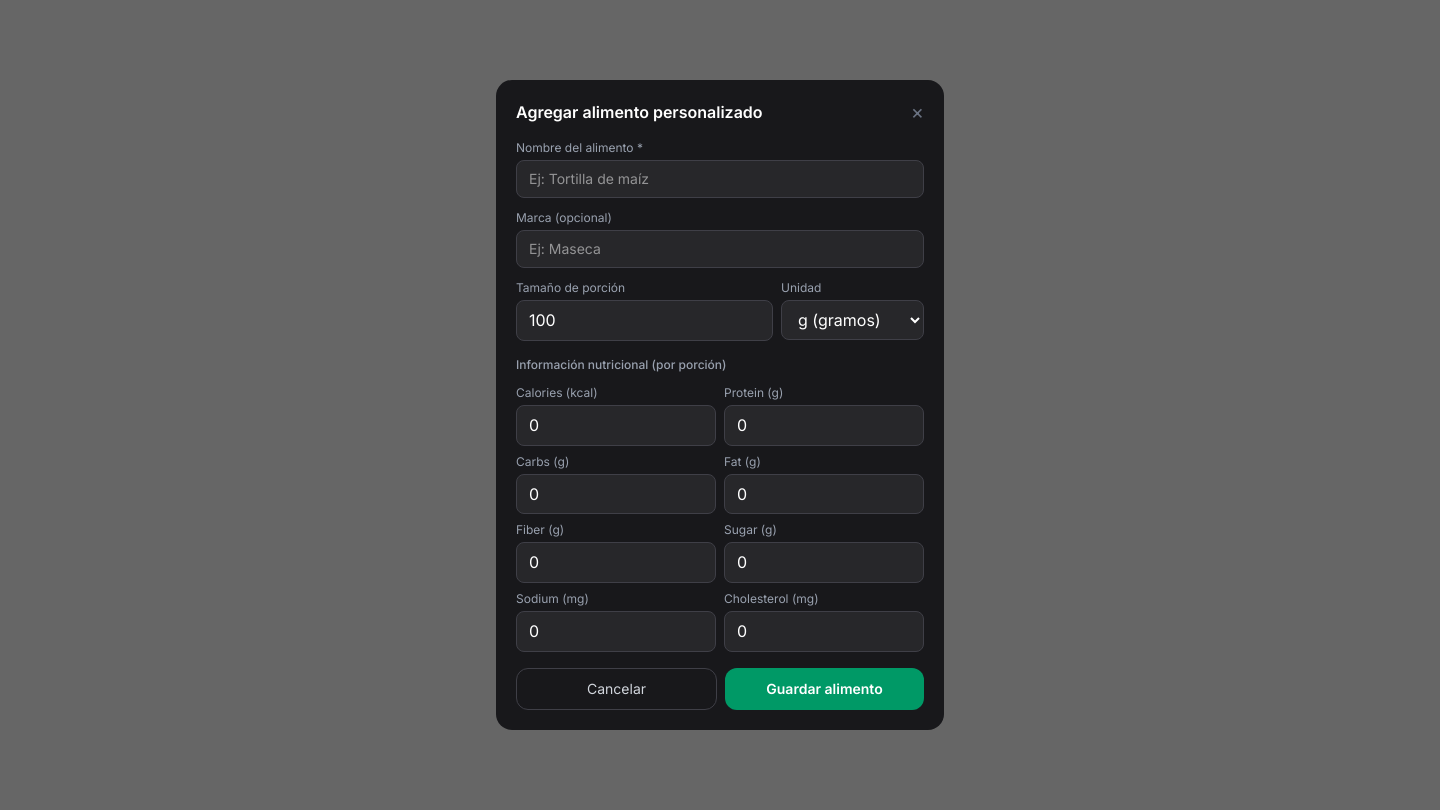
Test: AddFoodModal › shows error message when submission fails
This screenshot has width=1440, height=810.
Type "Tortilla" into the field with placeholder "Ej: Tortilla de maíz" at (720, 179), box [516,160,924,198]
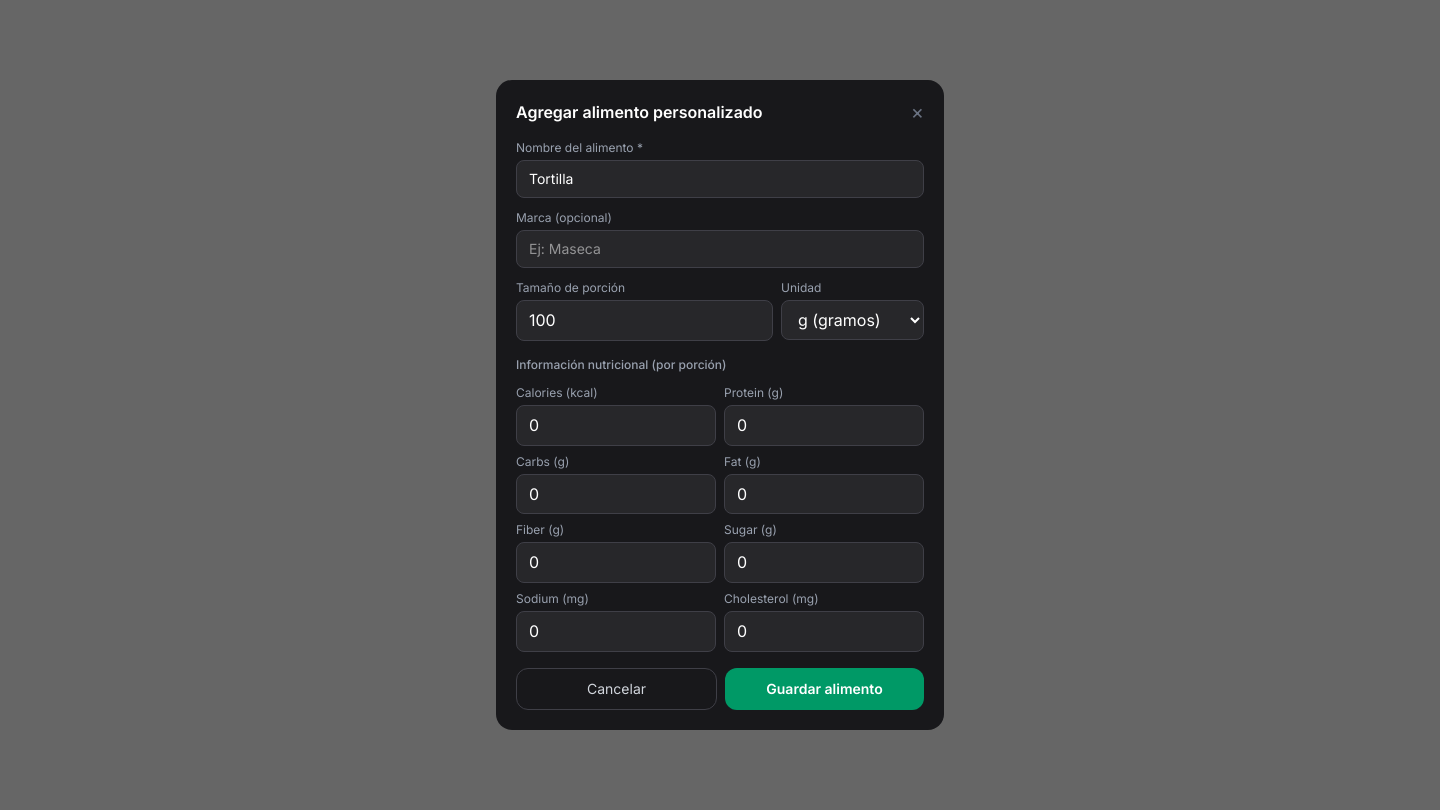
Click the button "Guardar alimento" at (824, 689), box [725,668,924,710]
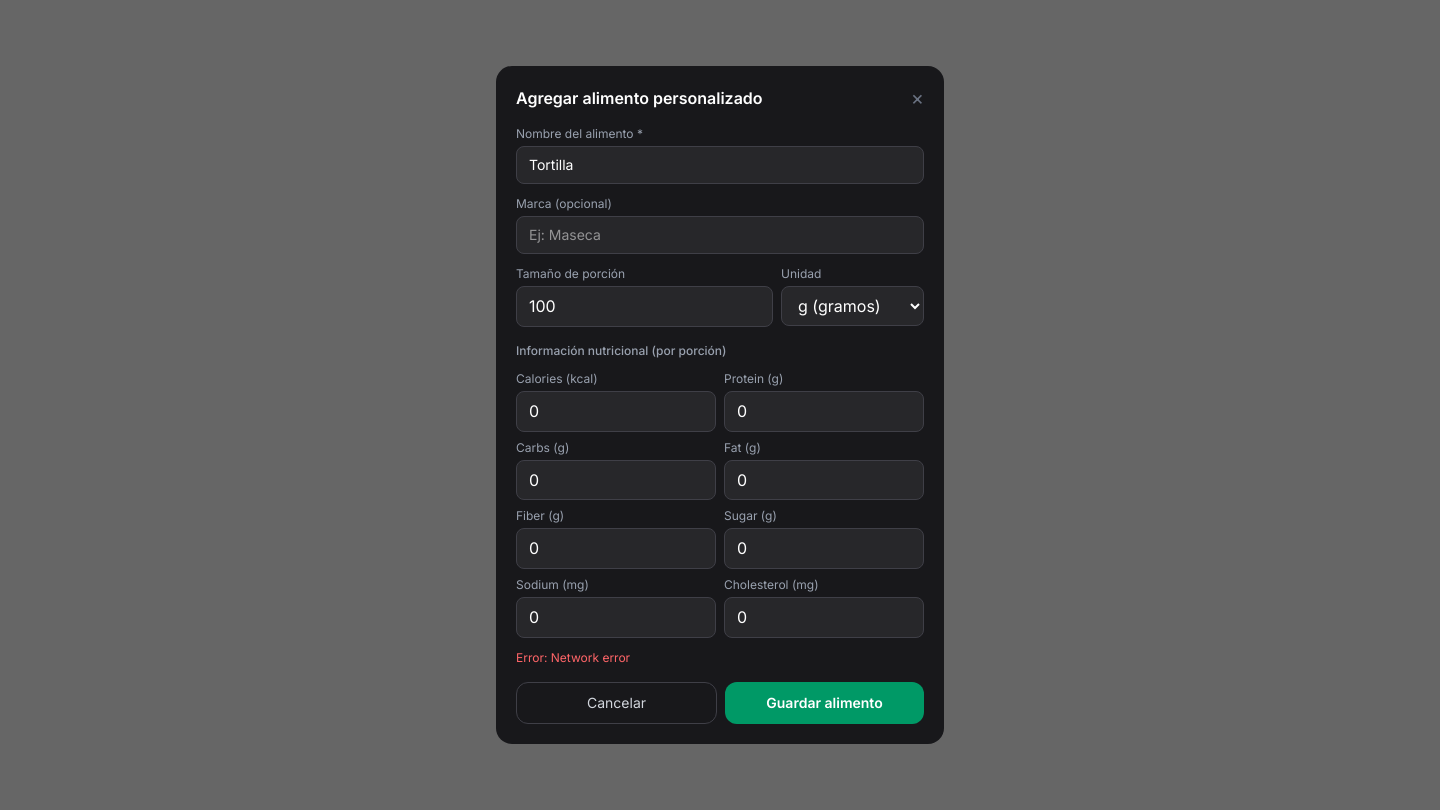
Now the text "Error: Network error" is shown, box [516,650,630,665]
